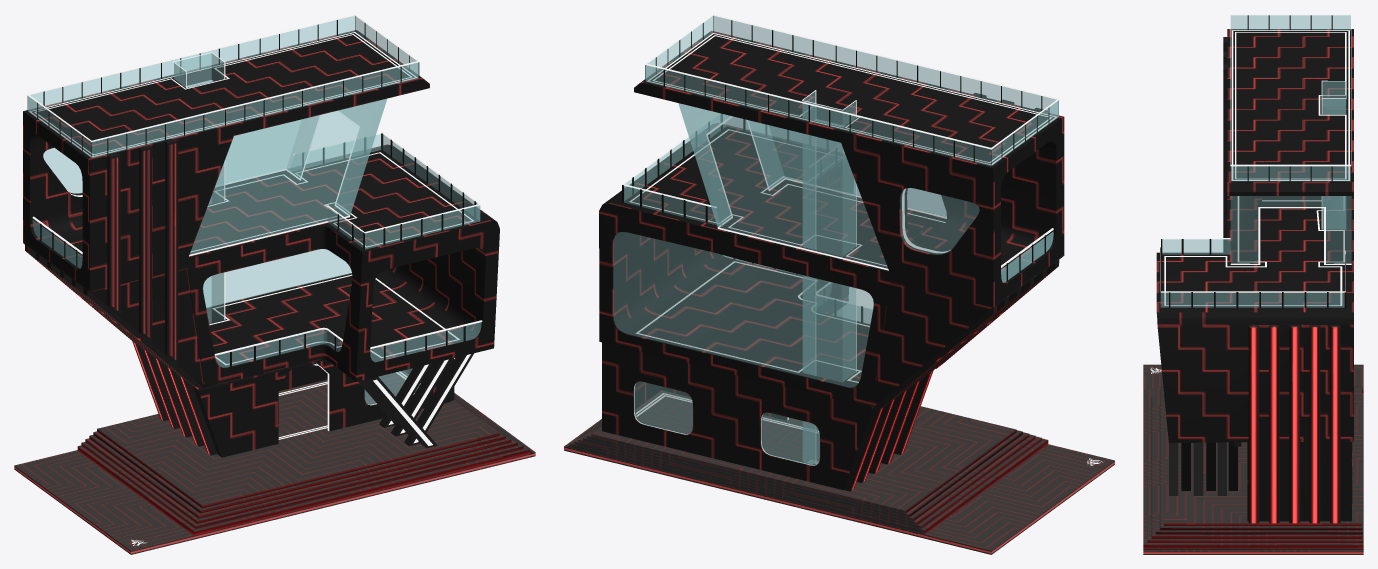
The model's file is Dhingia Builds 23 Size 2x1.glb.
The picture shows the model from 3 angles, left to right: view 1: azimuth 30°, elevation 25°; view 2: azimuth 150°, elevation 25°; view 3: azimuth 270°, elevation 25°; orthographic projection. The views are drawn at different scales.
Parts seen in each view (by area): view 1: Building, Glass, Ground, Lights, Railing; view 2: Building, Glass, Ground, Lights, Railing; view 3: Building, Glass, Lights, Ground, Railing.
Boxes of the visible parts, box(x1,y1,x2,y2) form: Building: box(23, 16, 529, 535); Glass: box(28, 15, 481, 404); Ground: box(14, 393, 535, 554); Lights: box(29, 32, 473, 439); Railing: box(27, 14, 482, 355); Building: box(570, 16, 1064, 534); Glass: box(613, 16, 1058, 465); Ground: box(564, 419, 1114, 554); Lights: box(629, 33, 1057, 463); Railing: box(622, 14, 1059, 371); Building: box(1143, 15, 1363, 548); Glass: box(1160, 15, 1350, 307); Lights: box(1164, 30, 1349, 305); Ground: box(1143, 364, 1363, 554); Railing: box(1160, 14, 1351, 292).
Size of what is drawn, in the model's own units: 32 by 28.62 by 16.
Materials: 3 (1 with a texture image).
